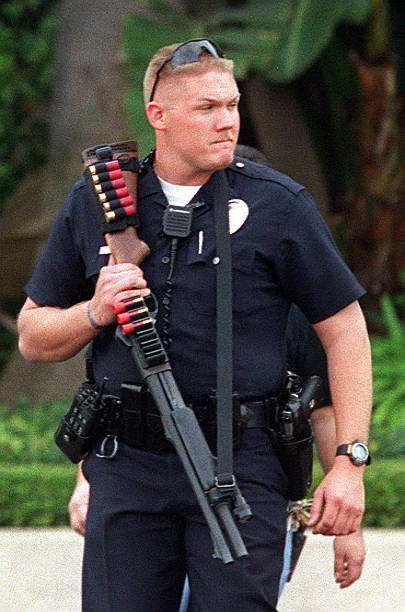shotgun: (78, 153, 242, 551)
